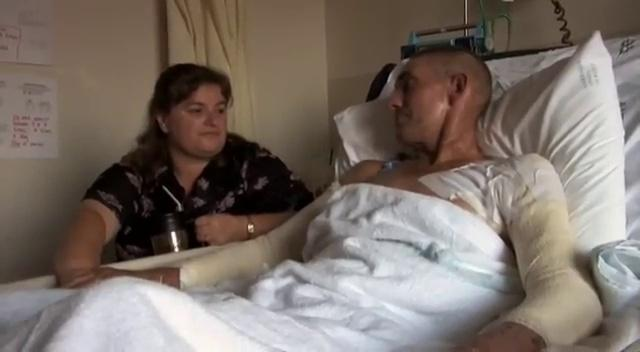others: (49, 59, 317, 273)
patient: (0, 42, 613, 352)
